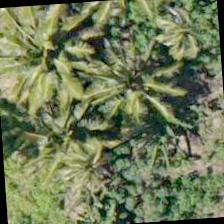Kelapa_Sawit: (23, 81, 119, 177), (90, 29, 186, 125), (2, 5, 97, 101)
